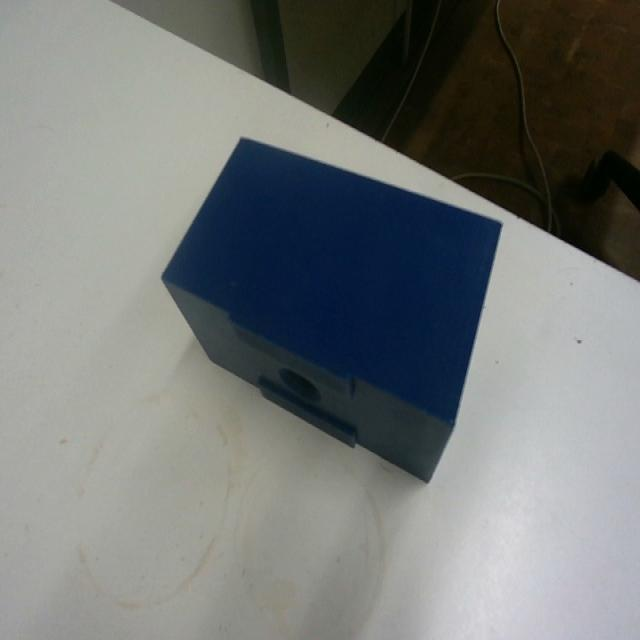Blue Cuboid: (159, 132, 504, 484)
